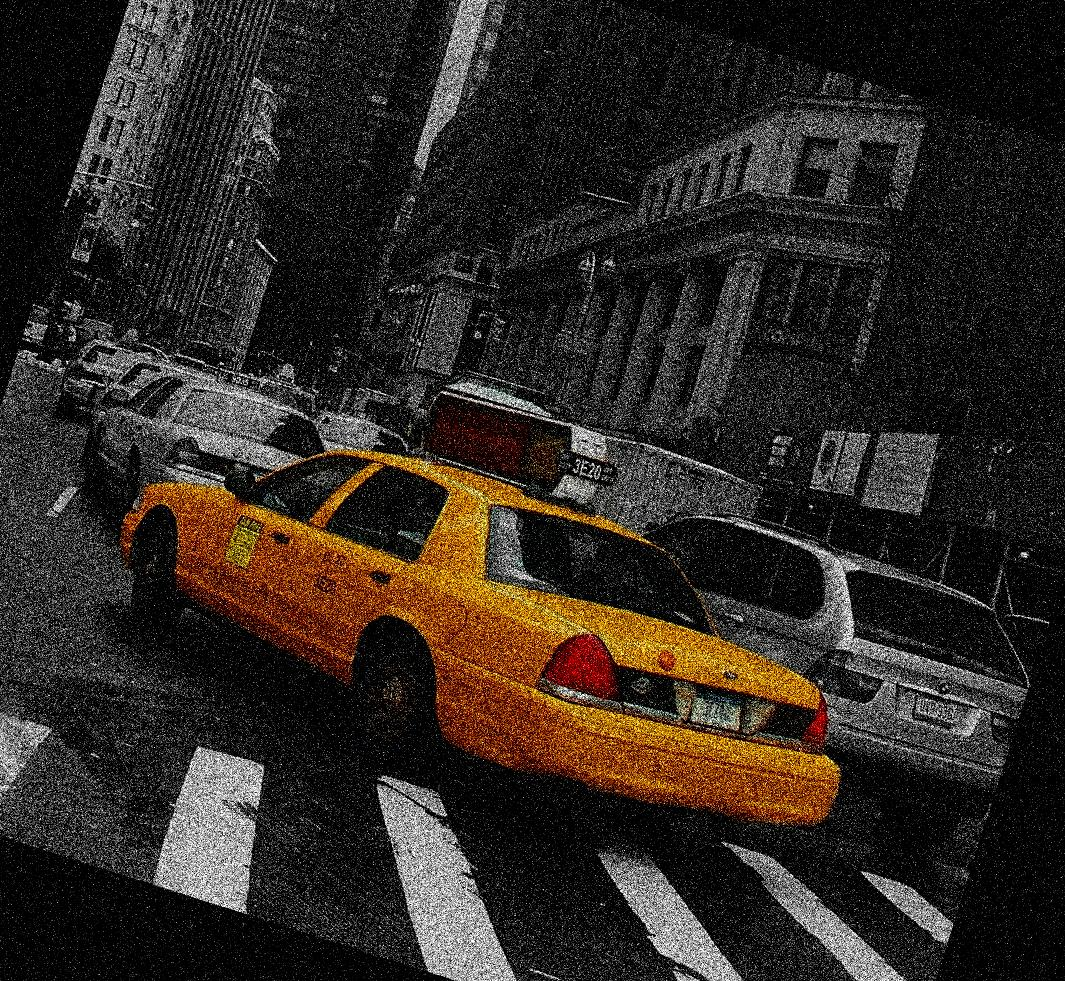taxi: (100, 436, 862, 842)
